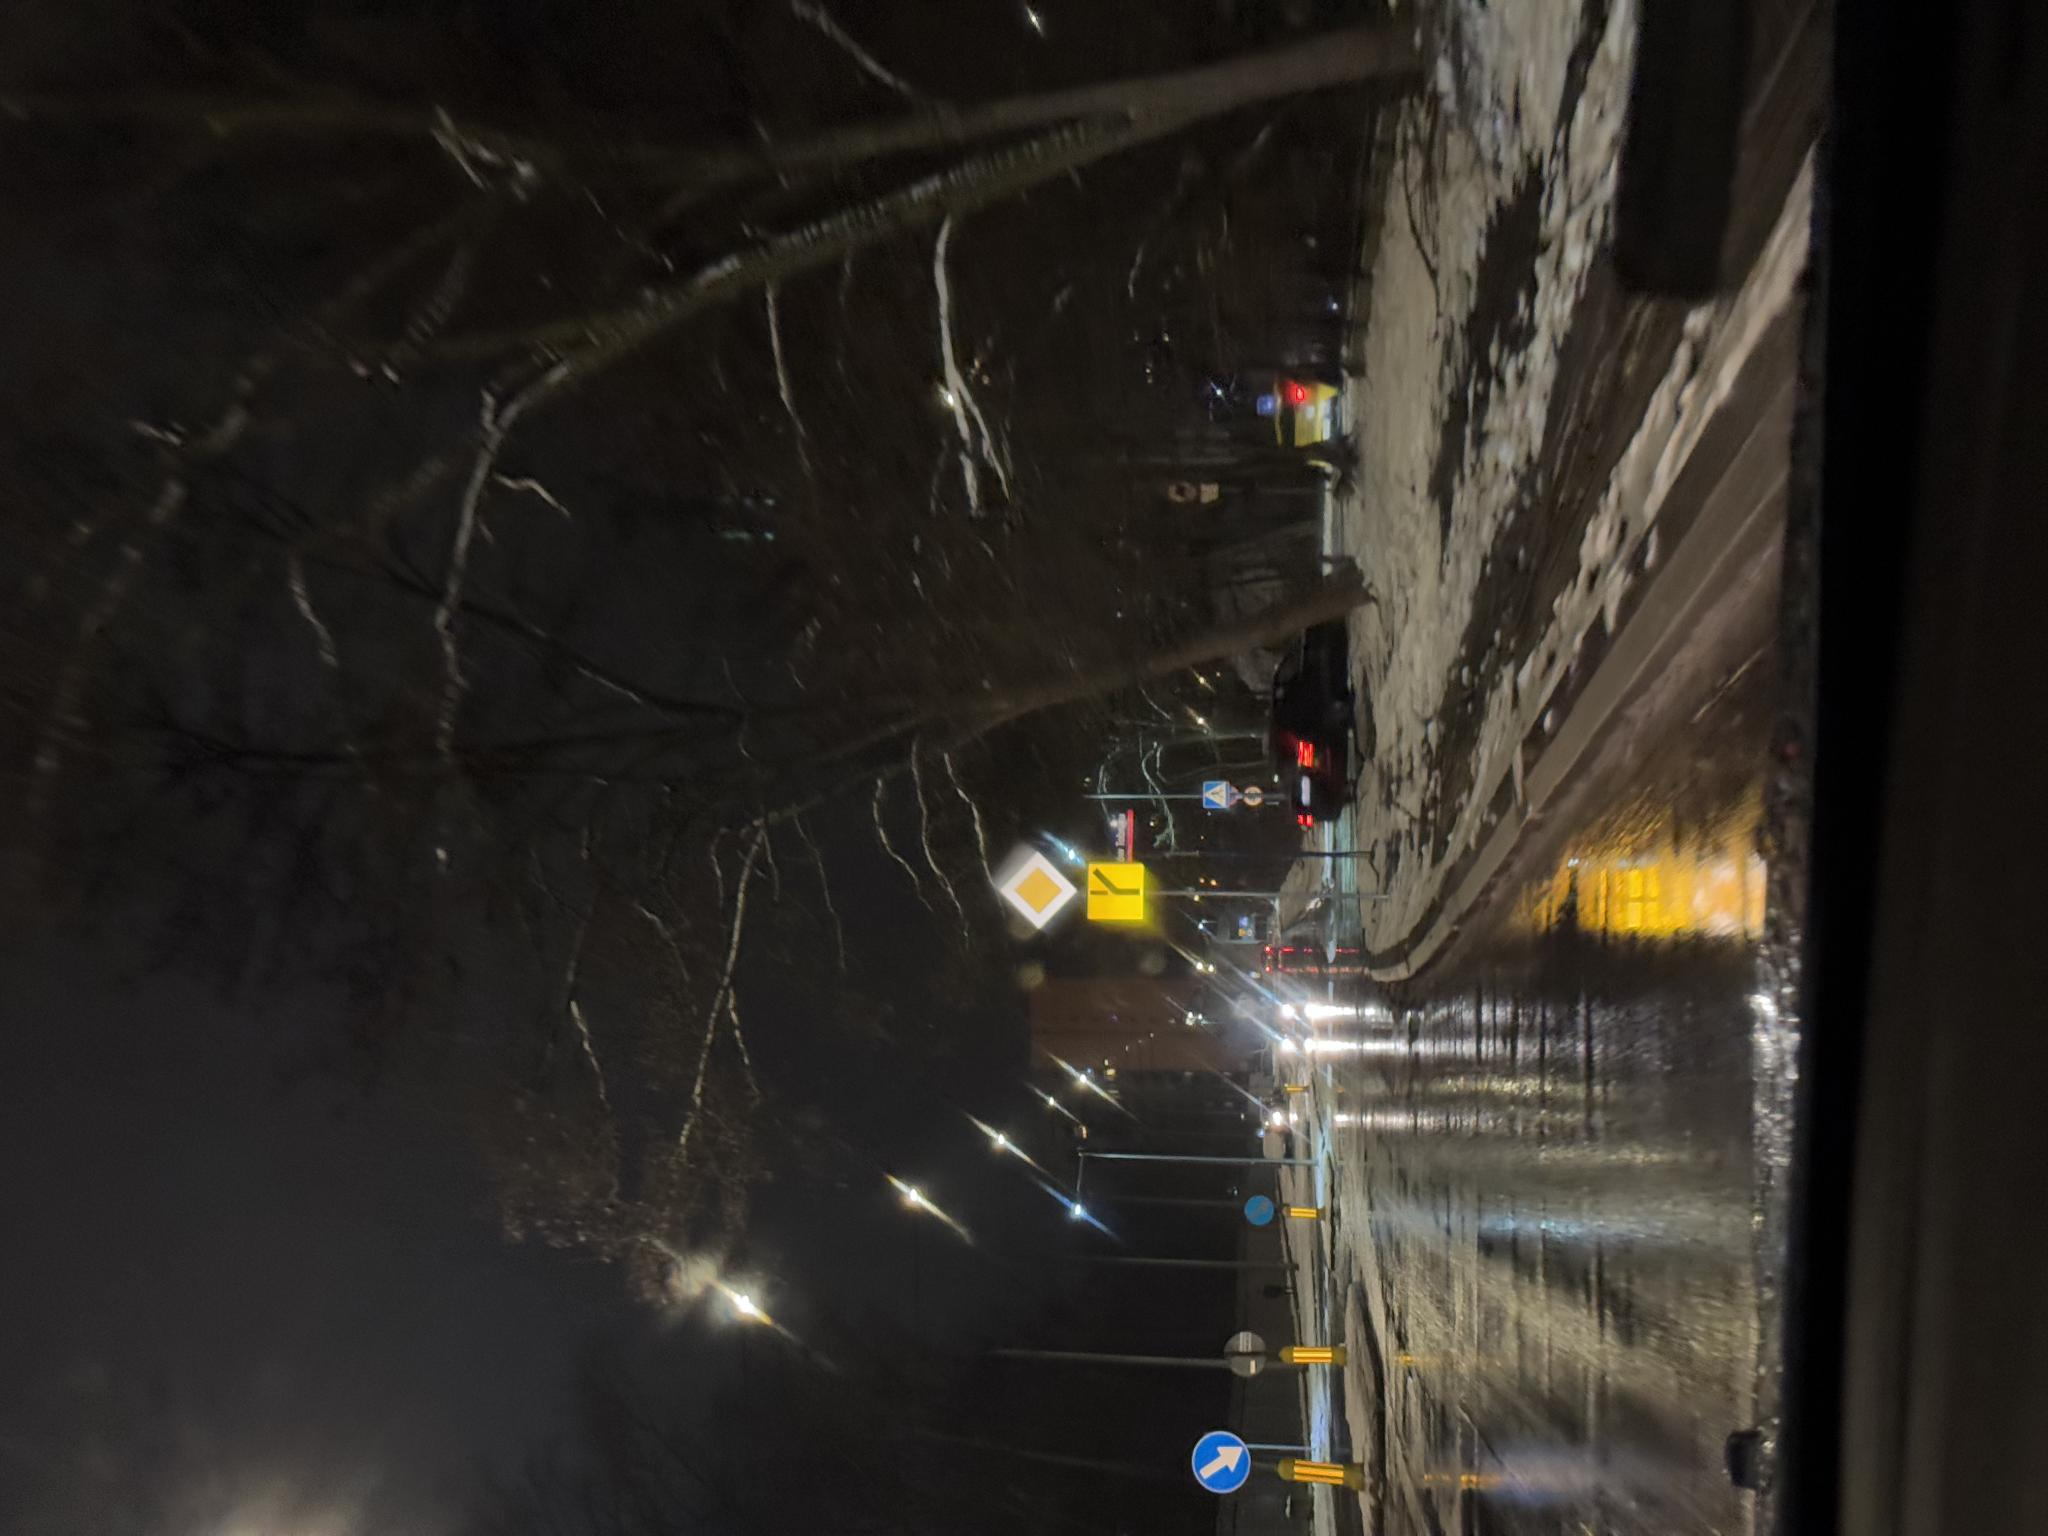information: (608, 1000, 685, 1079), (727, 1204, 755, 1229)
mandatory: (40, 1191, 106, 1252), (311, 1244, 342, 1275)
other: (616, 1087, 674, 1146)
